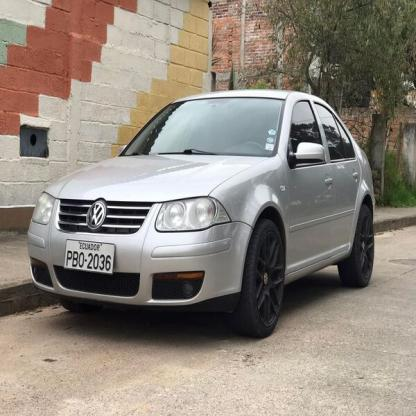Placa: (61, 237, 120, 282)
